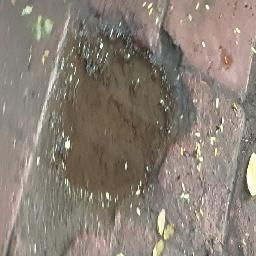water accumulation: (57, 31, 173, 205)
